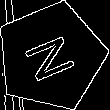N_NE: (19, 28, 83, 85)
